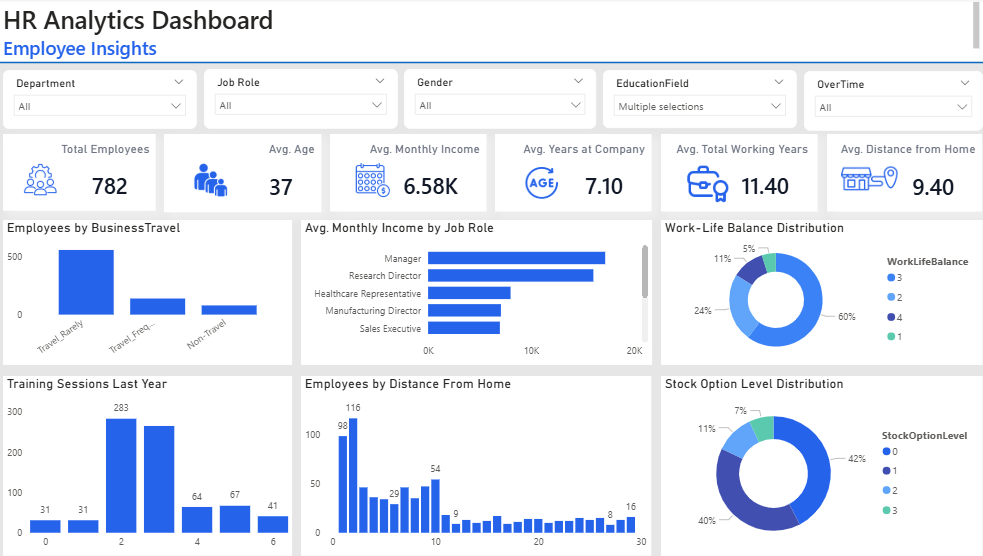

This screenshot's page, from the dashboard's own definition file:
{"tool":"powerbi","page":{"name":"Employee Insights","canvas":[1280,720],"ordinal":2},"visuals":[{"type":"textbox","box":[0,0,1269.7,83.9],"z":0},{"type":"slicer","fields":{"Values":["HR-Employee-Attrition.Department"]},"box":[5.4,93,250,76],"z":1000},{"type":"slicer","fields":{"Values":["HR-Employee-Attrition.JobRole"]},"box":[263.9,91.2,250.3,76.9],"z":2000},{"type":"slicer","fields":{"Values":["HR-Employee-Attrition.Gender"]},"box":[522.8,91.2,248.5,76.9],"z":3000},{"type":"slicer","fields":{"Values":["HR-Employee-Attrition.EducationField"]},"box":[779.8,93,250.3,75.1],"z":4000},{"type":"slicer","fields":{"Values":["HR-Employee-Attrition.OverTime"]},"box":[1038.7,94.2,231,77.4],"z":5000},{"type":"cardVisual","title":"Total Employees","fields":{"Data":["_Measure.Total Employees"]},"box":[5.2,175.5,197.4,99.4],"z":6000},{"type":"cardVisual","title":"Avg. Distance from Home","fields":{"Data":["Avg(HR-Employee-Attrition.DistanceFromHome)"]},"box":[1068,176,200,100],"z":7000},{"type":"cardVisual","title":"Avg. Monthly Income","fields":{"Data":["Avg(HR-Employee-Attrition.MonthlyIncome)"]},"box":[427,175.2,201.8,99.9],"z":8000},{"type":"cardVisual","title":"Avg. Total Working Years","fields":{"Data":["Avg(HR-Employee-Attrition.TotalWorkingYears)"]},"box":[853.9,175.2,201.8,99.9],"z":9000},{"type":"cardVisual","title":"Avg. Age","fields":{"Data":["_Measure.Average Age"]},"box":[212.9,175.5,202.6,100.6],"z":10000},{"type":"cardVisual","title":"Avg. Years at Company","fields":{"Data":["Avg(HR-Employee-Attrition.YearsAtCompany)"]},"box":[640.4,175.2,201.8,99.9],"z":11000},{"type":"clusteredColumnChart","title":"Employees by BusinessTravel","fields":{"Category":["HR-Employee-Attrition.BusinessTravel"],"Y":["CountNonNull(HR-Employee-Attrition.EmployeeNumber)"]},"box":[5.2,286.5,372.9,187.1],"z":12000},{"type":"clusteredBarChart","title":"Avg. Monthly Income by Job Role","fields":{"Category":["HR-Employee-Attrition.JobRole"],"Y":["Avg(HR-Employee-Attrition.MonthlyIncome)"]},"box":[389.7,286.5,452.9,187.1],"z":13000},{"type":"donutChart","title":"Work-Life Balance Distribution","fields":{"Category":["HR-Employee-Attrition.WorkLifeBalance"],"Y":["CountNonNull(HR-Employee-Attrition.EmployeeNumber)"]},"box":[854.2,286.5,415.5,187.1],"z":14000},{"type":"clusteredColumnChart","title":"Employees by Distance From Home","fields":{"Category":["HR-Employee-Attrition.DistanceFromHome"],"Y":["CountNonNull(HR-Employee-Attrition.EmployeeNumber)"]},"box":[389.7,487.7,451.6,232.3],"z":15000},{"type":"clusteredColumnChart","title":"Training Sessions Last Year","fields":{"Category":["HR-Employee-Attrition.TrainingTimesLastYear"],"Y":["CountNonNull(HR-Employee-Attrition.EmployeeNumber)"]},"box":[5.2,487.7,372.9,232.3],"z":16000},{"type":"donutChart","title":"Stock Option Level Distribution","fields":{"Y":["CountNonNull(HR-Employee-Attrition.EmployeeNumber)"],"Category":["HR-Employee-Attrition.StockOptionLevel"]},"box":[854.8,488,415.3,232.6],"z":17000},{"type":"shape","box":[0,65.8,1269.7,34.8],"z":18000},{"type":"image","box":[13.2,213.5,81.5,43],"z":19000},{"type":"image","box":[232.3,212.9,81.3,43.9],"z":20000},{"type":"image","box":[441.3,212.9,81.3,43.9],"z":21000},{"type":"image","box":[641.8,218.1,118,41.1],"z":22000},{"type":"image","box":[867,212.7,94.7,53.6],"z":23000},{"type":"image","box":[1086.9,187.7,73.3,91.2],"z":24000}]}

Visuals, with their boxes in screenshot pixels (x1, y1, x2, y2), scaled from the page's 1280x720 canvas onto the 983x556 screenshot:
textbox: bbox=[0, 0, 975, 65]
slicer - HR-Employee-Attrition.Department: bbox=[4, 72, 196, 131]
slicer - HR-Employee-Attrition.JobRole: bbox=[203, 70, 395, 130]
slicer - HR-Employee-Attrition.Gender: bbox=[401, 70, 592, 130]
slicer - HR-Employee-Attrition.EducationField: bbox=[599, 72, 791, 130]
slicer - HR-Employee-Attrition.OverTime: bbox=[798, 73, 975, 133]
"Total Employees" cardVisual: bbox=[4, 136, 156, 212]
"Avg. Distance from Home" cardVisual: bbox=[820, 136, 974, 213]
"Avg. Monthly Income" cardVisual: bbox=[328, 135, 483, 212]
"Avg. Total Working Years" cardVisual: bbox=[656, 135, 811, 212]
"Avg. Age" cardVisual: bbox=[164, 136, 319, 213]
"Avg. Years at Company" cardVisual: bbox=[492, 135, 647, 212]
"Employees by BusinessTravel" clusteredColumnChart: bbox=[4, 221, 290, 366]
"Avg. Monthly Income by Job Role" clusteredBarChart: bbox=[299, 221, 647, 366]
"Work-Life Balance Distribution" donutChart: bbox=[656, 221, 975, 366]
"Employees by Distance From Home" clusteredColumnChart: bbox=[299, 377, 646, 555]
"Training Sessions Last Year" clusteredColumnChart: bbox=[4, 377, 290, 555]
"Stock Option Level Distribution" donutChart: bbox=[656, 377, 975, 555]
shape: bbox=[0, 51, 975, 78]
image: bbox=[10, 165, 73, 198]
image: bbox=[178, 164, 241, 198]
image: bbox=[339, 164, 401, 198]
image: bbox=[493, 168, 584, 200]
image: bbox=[666, 164, 739, 206]
image: bbox=[835, 145, 891, 215]
